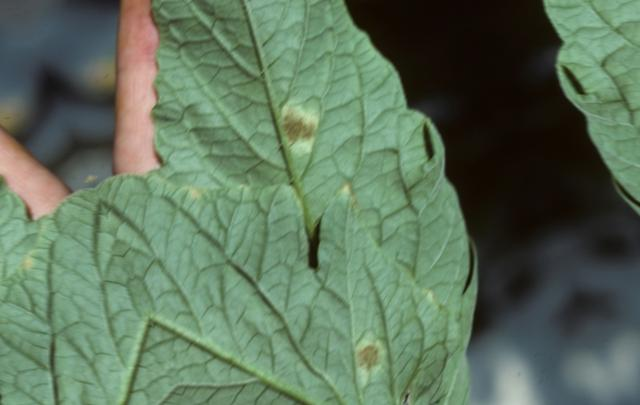Tomato mold leaf: (66, 0, 552, 405), (80, 45, 513, 405)
